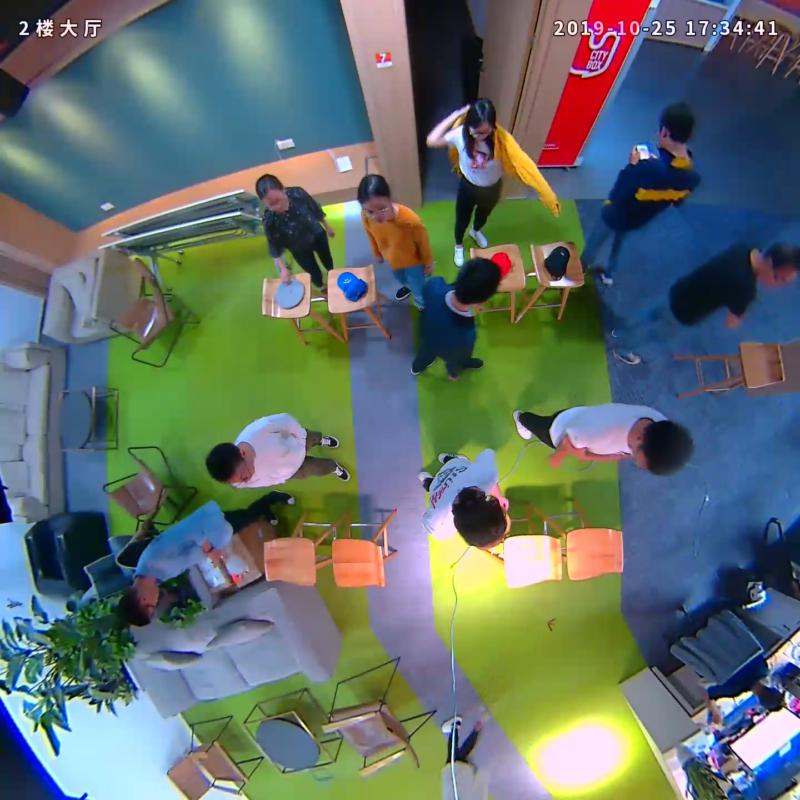head: (630, 417, 700, 482), (452, 483, 514, 554), (448, 253, 506, 314), (353, 170, 404, 226), (203, 438, 255, 491), (108, 578, 162, 629), (653, 99, 700, 157), (759, 235, 800, 292), (461, 96, 503, 148), (249, 168, 297, 213)
